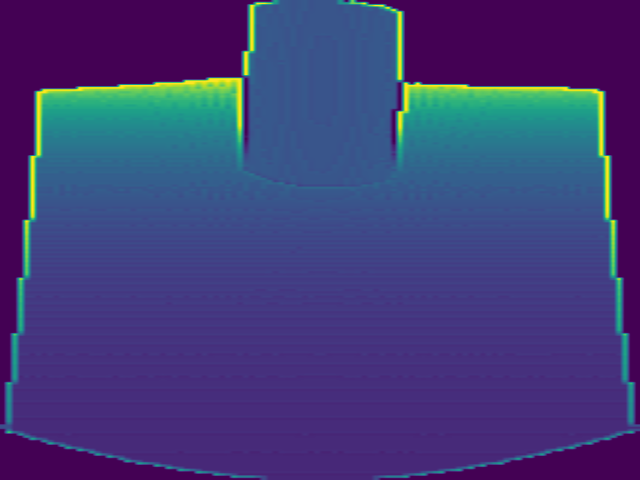cylinder: (238, 2, 407, 187)
